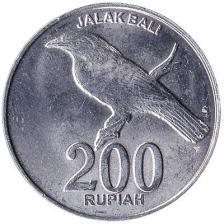coin_200_e2003: (1, 1, 221, 222)
